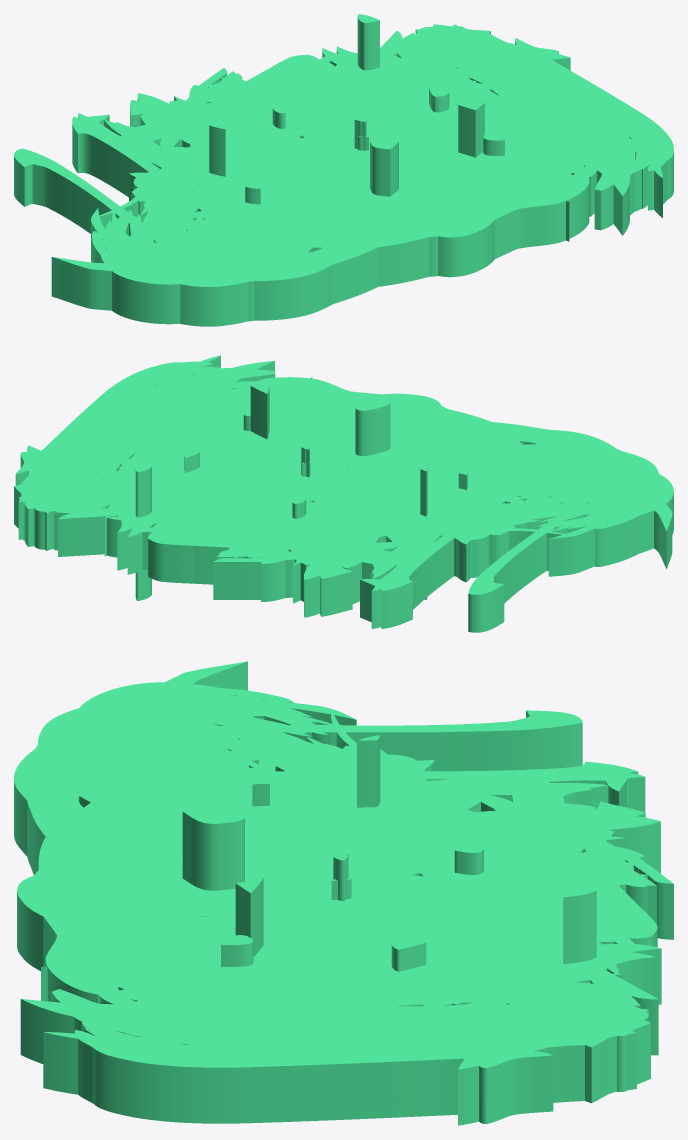
File: Asmaul Husna.fbx
The picture shows the model from 3 angles, top to bottom: view 1: azimuth 30°, elevation 25°; view 2: azimuth 150°, elevation 25°; view 3: azimuth 270°, elevation 25°; orthographic projection. The views are drawn at different scales.
Visible parts, largest first — view 1: 2, 19, 5, 14, 21, 24, 7, 23, 6, 20, Curve.2757, 16 (+18 smaller); view 2: 2, 5, 14, 19, 21, 6, 20, 23, 7, 16, Curve.2757, 10 (+19 smaller); view 3: 2, 22, 5, 19, 14, 20, 6, 21, Curve.2757, 16, 7, 24 (+20 smaller).
Boxes of the visible parts, <box> form: 2: <box>175,44,659,321</box>; 19: <box>14,47,662,303</box>; 5: <box>111,58,627,267</box>; 14: <box>120,33,588,270</box>; 21: <box>91,44,616,286</box>; 24: <box>155,43,670,320</box>; 7: <box>100,45,576,324</box>; 23: <box>51,43,647,310</box>; 6: <box>103,28,593,273</box>; 20: <box>130,40,633,283</box>; Curve.2757: <box>209,14,484,196</box>; 16: <box>111,34,574,264</box>; 2: <box>30,367,636,547</box>; 5: <box>63,375,633,553</box>; 14: <box>47,394,615,569</box>; 19: <box>61,355,600,632</box>; 21: <box>60,369,624,578</box>; 6: <box>32,393,654,555</box>; 20: <box>50,371,660,603</box>; 23: <box>28,371,672,628</box>; 7: <box>62,395,673,553</box>; 16: <box>33,401,640,617</box>; Curve.2757: <box>135,385,427,600</box>; 10: <box>33,379,602,603</box>; 2: <box>33,722,575,1061</box>; 22: <box>93,767,645,1123</box>; 5: <box>85,704,583,1042</box>; 19: <box>25,710,582,1094</box>; 14: <box>72,703,641,1032</box>; 20: <box>37,701,627,1040</box>; 6: <box>120,690,647,1027</box>; 21: <box>38,698,616,1027</box>; Curve.2757: <box>182,735,596,963</box>; 16: <box>79,698,660,1031</box>; 7: <box>72,682,616,1020</box>; 24: <box>14,739,583,1125</box>.
Size of the model in its own units: 0.5284 by 0.1145 by 0.3608.
